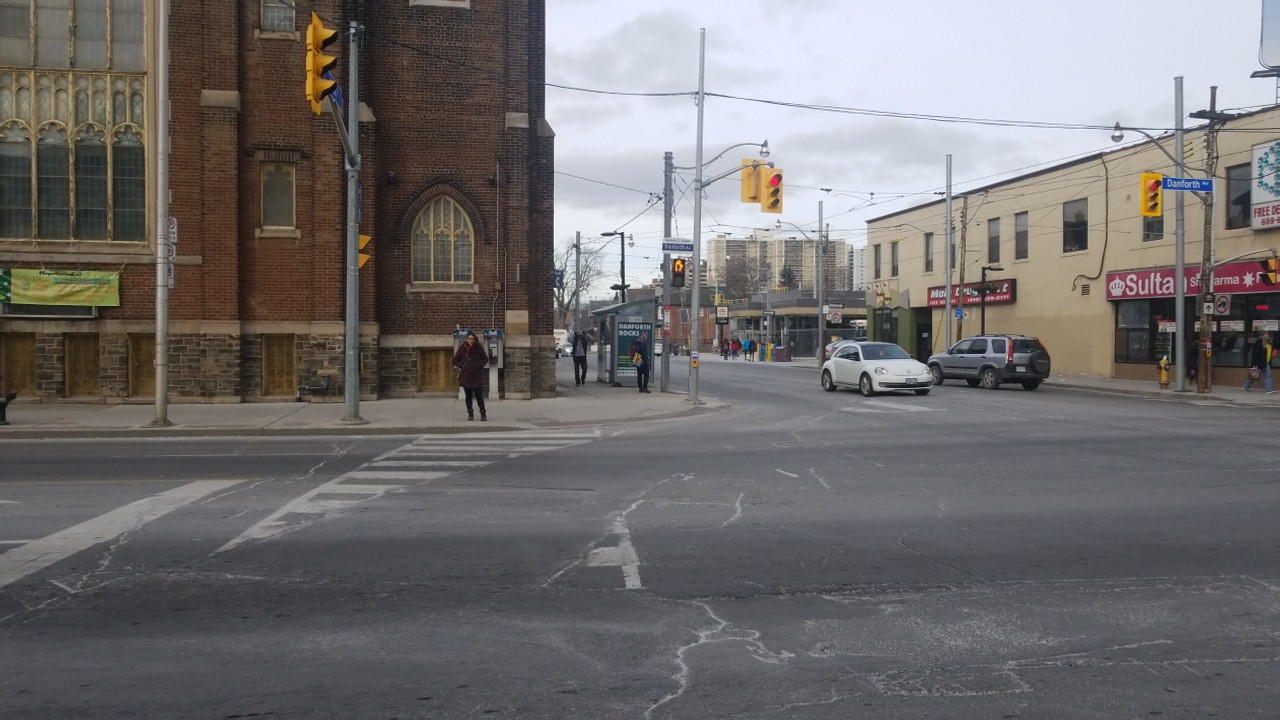light: (667, 258, 686, 288)
